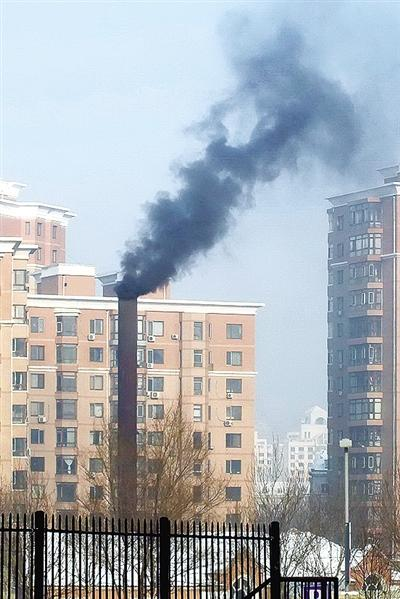smoke: (114, 44, 349, 295)
